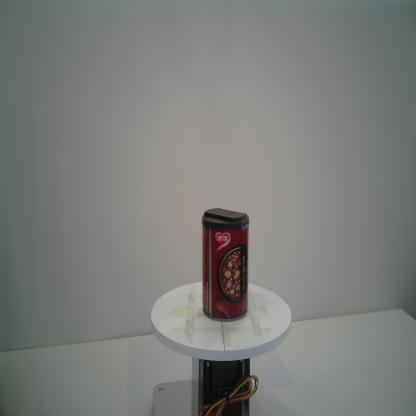Canned Food: (201, 206, 252, 323)
